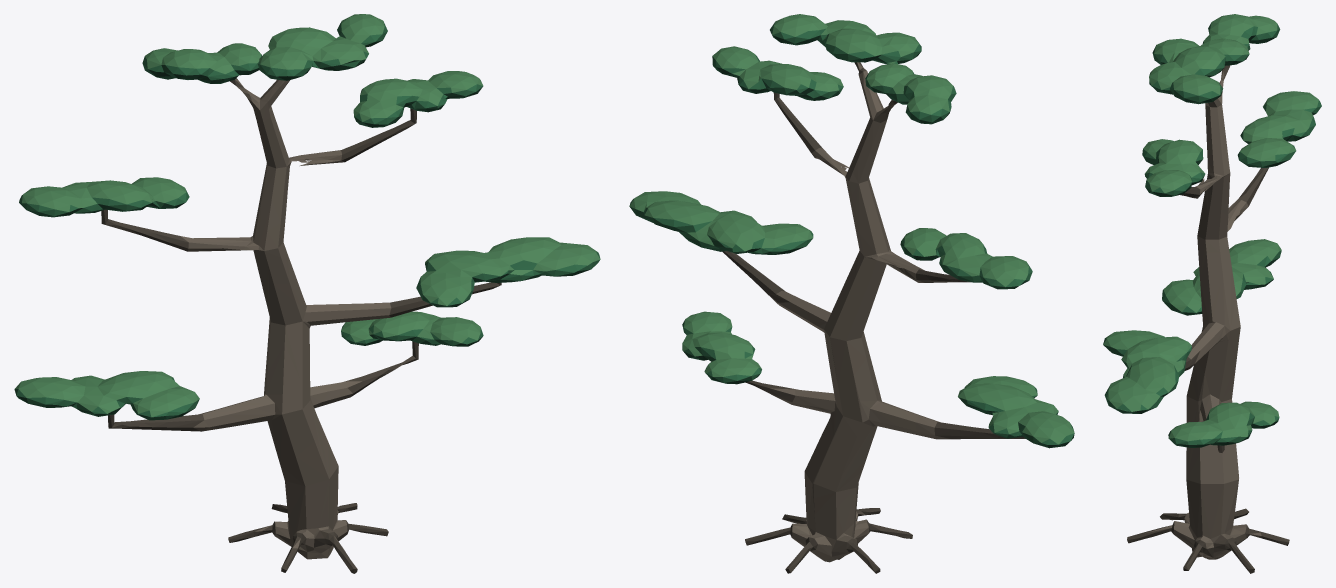
File: ancient-pine-2180-lod0.glb
The picture shows the model from 3 angles, left to right: view 1: azimuth 30°, elevation 25°; view 2: azimuth 150°, elevation 25°; view 3: azimuth 270°, elevation 25°; orthographic projection. The views are drawn at different scales.
Visible parts, largest first — view 1: n12.004, n8.004, n11.004, n9.004, n10.004; view 2: n12.004, n8.004, n11.004, n9.004, n10.004; view 3: n12.004, n8.004, n11.004, n9.004, n10.004.
Boxes of the visible parts, <box> form: n12.004: <box>15,14,600,417</box>; n8.004: <box>180,79,391,559</box>; n11.004: <box>14,21,600,417</box>; n9.004: <box>101,78,501,573</box>; n10.004: <box>16,40,589,420</box>; n12.004: <box>629,14,1074,444</box>; n8.004: <box>769,62,950,562</box>; n11.004: <box>629,22,1074,444</box>; n9.004: <box>722,62,1025,573</box>; n10.004: <box>638,35,1074,448</box>; n12.004: <box>1103,14,1318,441</box>; n8.004: <box>1145,69,1261,559</box>; n11.004: <box>1103,22,1321,444</box>; n9.004: <box>1127,65,1289,573</box>; n10.004: <box>1104,35,1316,447</box>.
Size of the model in its own units: 5.47 by 5.42 by 2.16.
